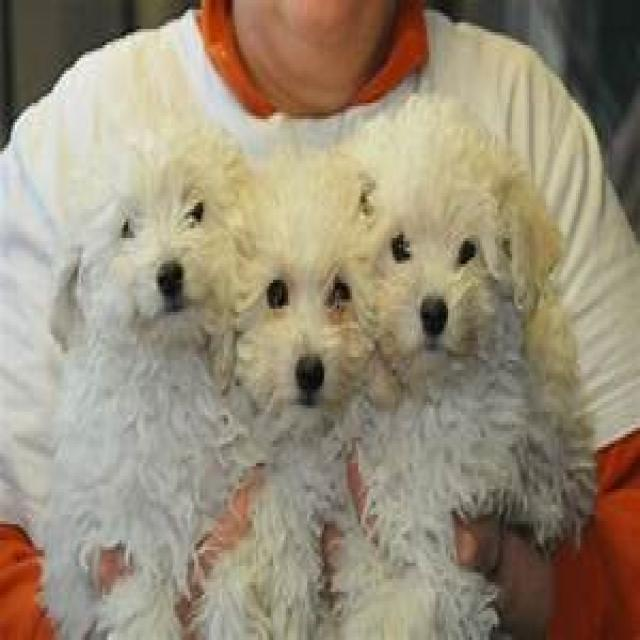dog: (342, 100, 594, 638), (46, 111, 259, 638), (202, 153, 408, 638)
